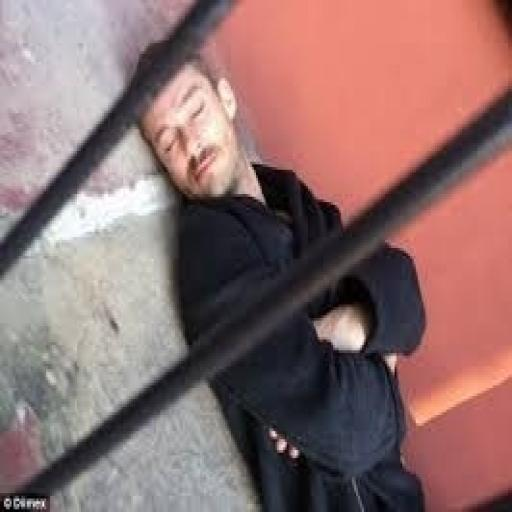sleeping: (125, 38, 429, 509)
